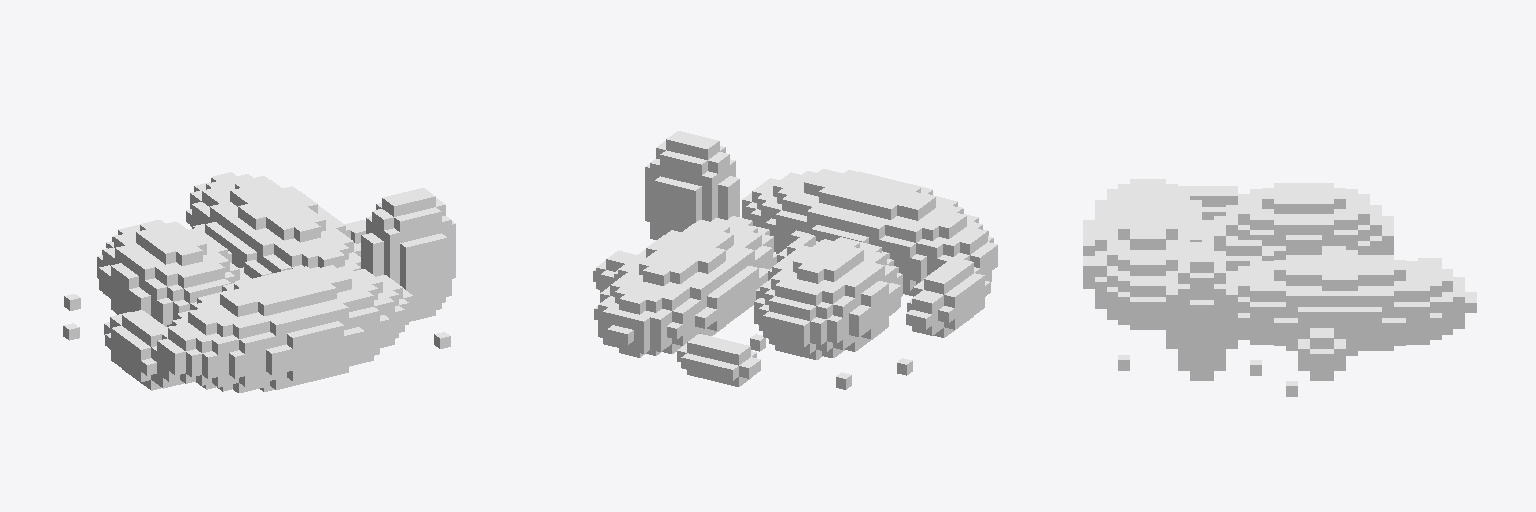
File: IronOre.obj
3 views of the same model, side by side, from view 1: azimuth 30°, elevation 25°; view 2: azimuth 150°, elevation 25°; view 3: azimuth 270°, elevation 25° (orthographic).
Visible parts, largest first — view 1: object 1; view 2: object 1; view 3: object 1.
Part boxes in pixels (left/top/right/bottom): object 1: left=63, top=172, right=455, bottom=392; object 1: left=593, top=131, right=997, bottom=389; object 1: left=1083, top=179, right=1476, bottom=396.
Bounding box in the file's own units: 3.2 × 1.1 × 3.3.